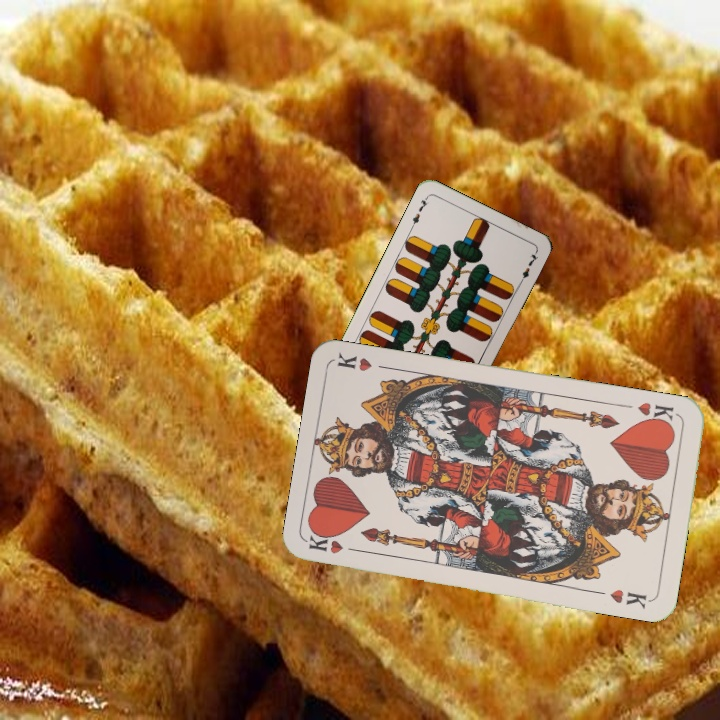E7: (407, 193, 431, 231)
HK: (305, 531, 365, 556), (634, 398, 677, 428)
